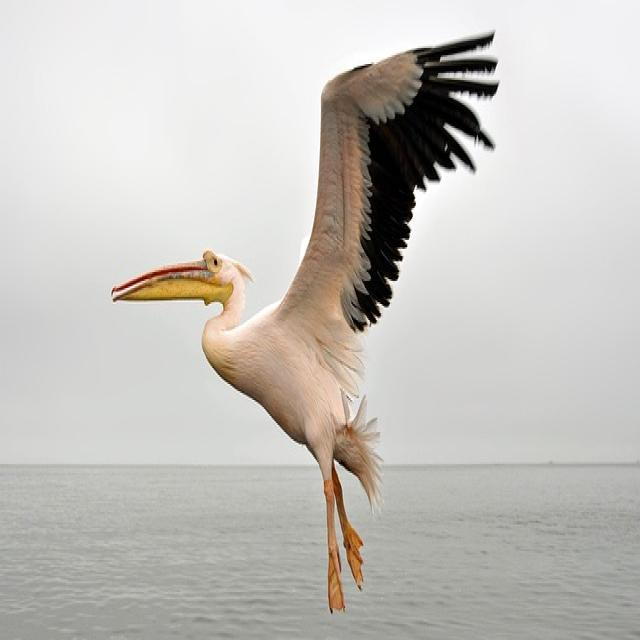Carnivorous: (113, 34, 497, 615)
